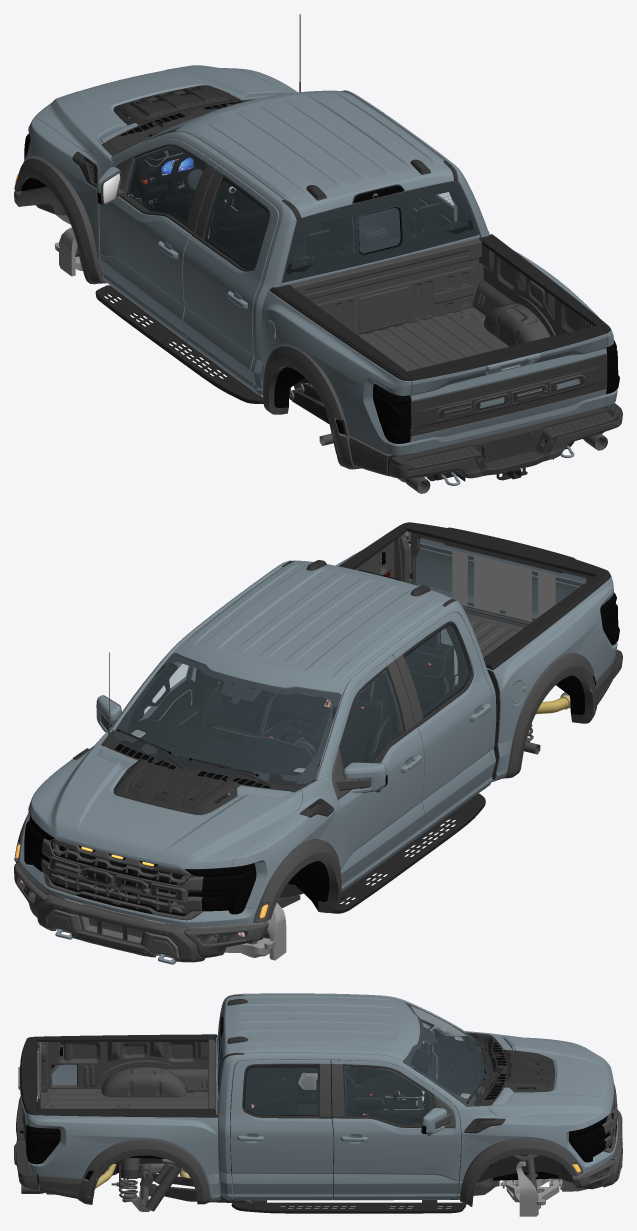
File: raptor.glb
3 views of the same model, one above another, from view 1: azimuth 30°, elevation 25°; view 2: azimuth 150°, elevation 25°; view 3: azimuth 270°, elevation 25° (orthographic). The views are drawn at different scales.
Visible parts, largest first — view 1: Body, Steering; view 2: Body; view 3: Body.
Boxes of the visible parts, bbox=[...] form: Body: bbox=[14, 14, 622, 493]; Steering: bbox=[170, 154, 202, 207]; Body: bbox=[14, 522, 622, 964]; Body: bbox=[14, 993, 622, 1216].
Size of the model in its own units: 2.42 by 2.03 by 5.9.
33 materials, 22 textured.
